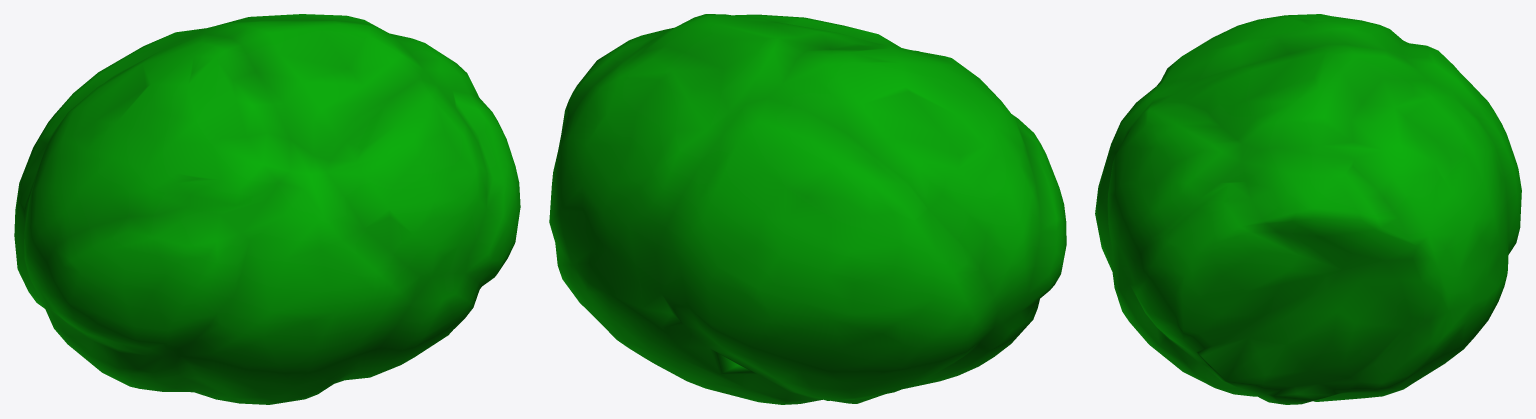
The model's file is boulder_c.glb.
3 views of the same model, side by side, from view 1: azimuth 30°, elevation 25°; view 2: azimuth 150°, elevation 25°; view 3: azimuth 270°, elevation 25° (orthographic). The views are drawn at different scales.
Visible parts, largest first — view 1: LOD0; view 2: LOD0; view 3: LOD0.
Boxes of the visible parts, bbox=[...] form: LOD0: bbox=[14, 14, 520, 404]; LOD0: bbox=[549, 14, 1066, 404]; LOD0: bbox=[1095, 14, 1521, 404].
Size of what is drawn, in the model's own units: 1.46 by 1.05 by 1.29.
